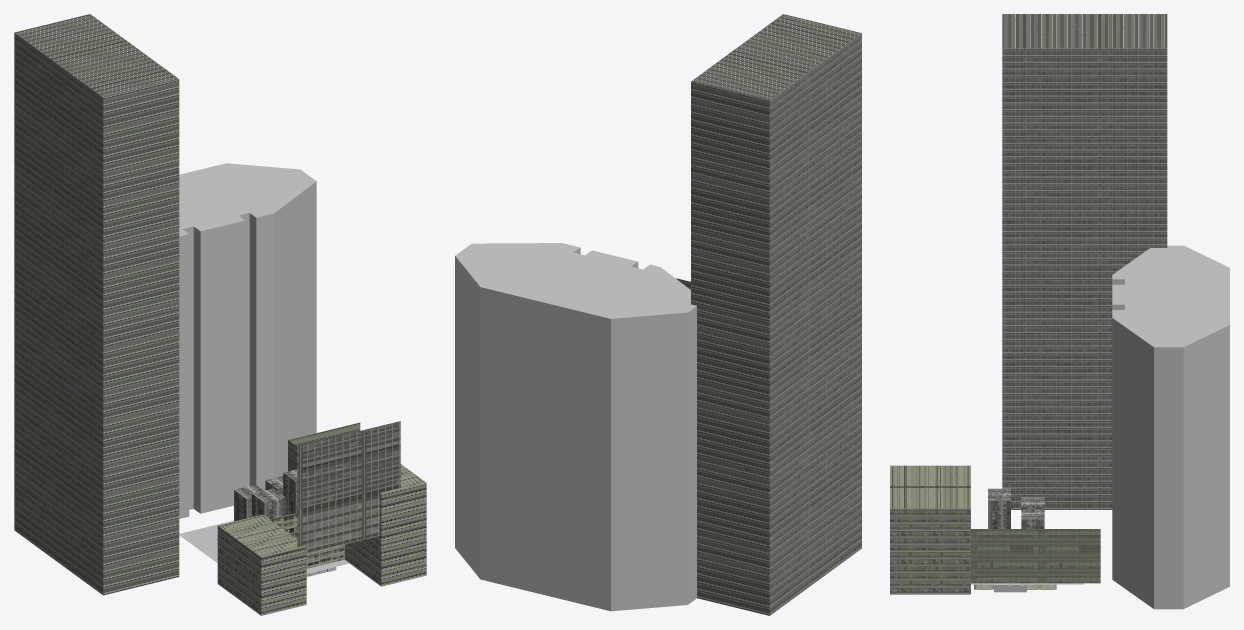
Rendered from SM_LDFest_15_Blockout02.fbx.
3 views of the same model, side by side, from view 1: azimuth 30°, elevation 25°; view 2: azimuth 150°, elevation 25°; view 3: azimuth 270°, elevation 25° (orthographic). The views are drawn at different scales.
Parts seen in each view (by area): view 1: SM_LDFest_15_Blockout02; view 2: SM_LDFest_15_Blockout02; view 3: SM_LDFest_15_Blockout02.
Part boxes in pixels (box(x1,y1,x2,y2)): SM_LDFest_15_Blockout02: box(14, 14, 426, 615); SM_LDFest_15_Blockout02: box(455, 14, 861, 615); SM_LDFest_15_Blockout02: box(890, 14, 1229, 609).
Size of the model in its own units: 20921 by 33222 by 21408.
